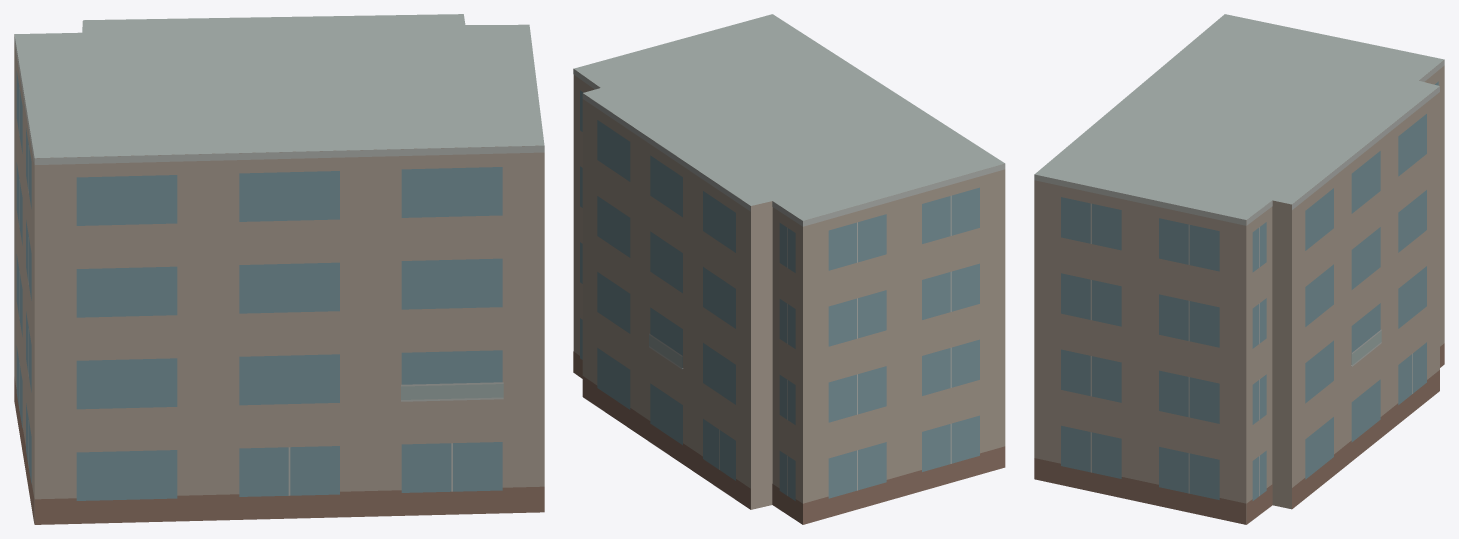
Rendered from survey-upis-32746317.glb.
3 views of the same model, side by side, from view 1: azimuth 30°, elevation 25°; view 2: azimuth 150°, elevation 25°; view 3: azimuth 270°, elevation 25° (orthographic). The views are drawn at different scales.
Parts seen in each view (by area): view 1: survey-upis-32746317.tmp; view 2: survey-upis-32746317.tmp; view 3: survey-upis-32746317.tmp.
Boxes of the visible parts, bbox=[...] form: survey-upis-32746317.tmp: bbox=[14, 14, 544, 524]; survey-upis-32746317.tmp: bbox=[573, 14, 1005, 524]; survey-upis-32746317.tmp: bbox=[1034, 14, 1444, 524].
Size of the model in its own units: 18.57 by 12.8 by 15.62.
